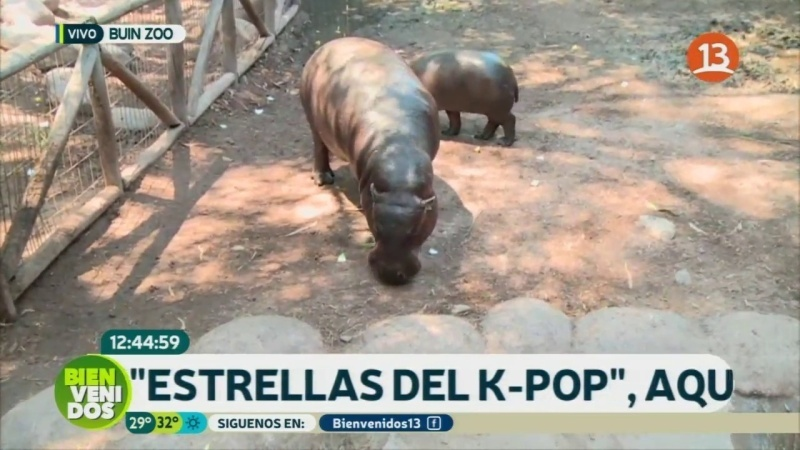hipopotamo: (288, 30, 449, 293), (408, 39, 539, 154)
